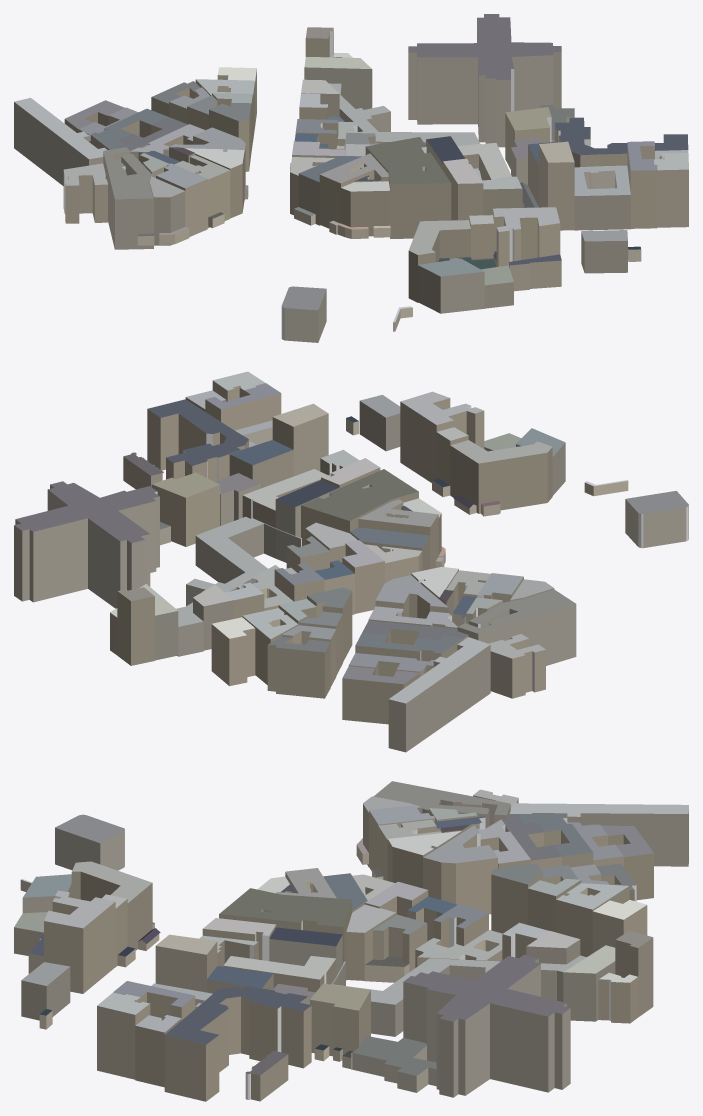
The picture shows the model from 3 angles, top to bottom: view 1: azimuth 30°, elevation 25°; view 2: azimuth 150°, elevation 25°; view 3: azimuth 270°, elevation 25°; orthographic projection. The views are drawn at different scales.
Visible parts, largest first — view 1: tuile; view 2: tuile; view 3: tuile.
Boxes of the visible parts, x1=… form: tuile: x1=14, y1=14, x2=688, y2=342; tuile: x1=14, y1=371, x2=688, y2=752; tuile: x1=14, y1=781, x2=688, y2=1101.
Bounding box in the file's own units: 270 × 41.14 × 279.
